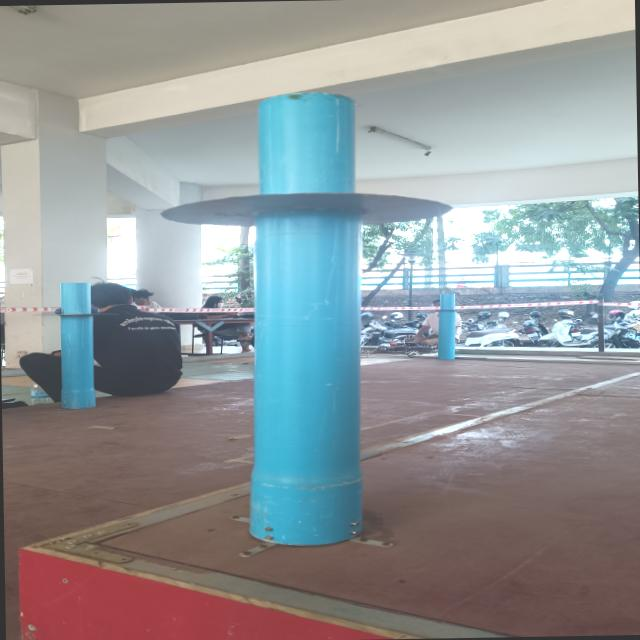pole: (130, 50, 480, 368)
